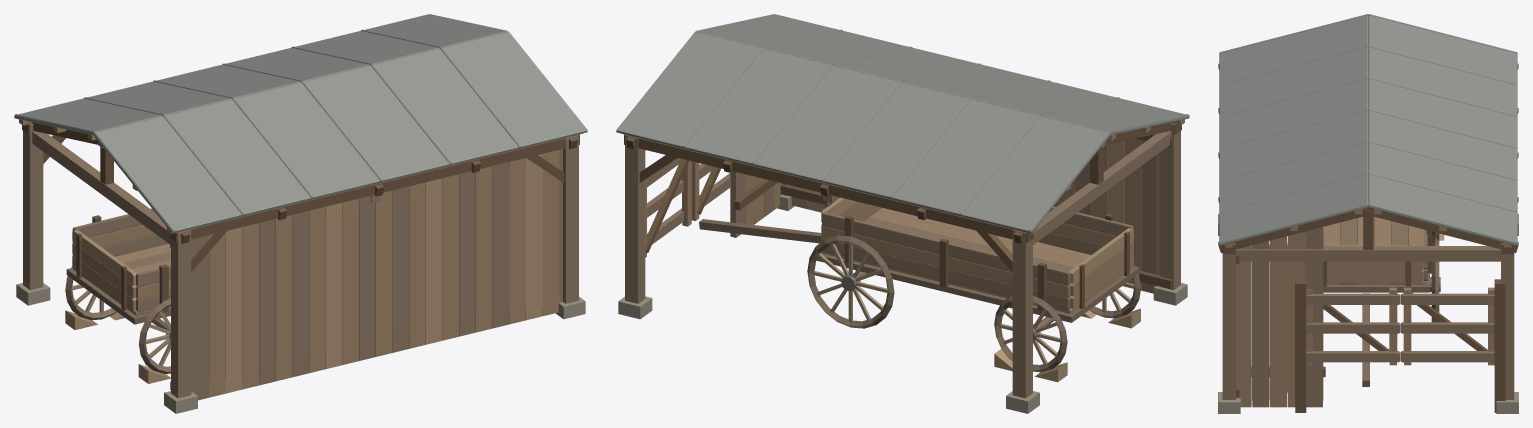
File: NorthwestWagonShed_r002.glb
3 views of the same model, side by side, from view 1: azimuth 30°, elevation 25°; view 2: azimuth 150°, elevation 25°; view 3: azimuth 270°, elevation 25° (orthographic). The views are drawn at different scales.
Parts seen in each view (by area): view 1: Roof-col, Backwall-col, Frame-col, ParkedWagon-col, WheelChocks-col; view 2: Roof-col, ParkedWagon-col, Frame-col, Backwall-col, WagonGate-col, WheelChocks-col; view 3: Roof-col, WagonGate-col, Backwall-col, Frame-col, ParkedWagon-col.
Part boxes in pixels (x1,y1,x2,y2): Roof-col: (14, 14, 587, 233); Backwall-col: (170, 149, 562, 400); Frame-col: (16, 119, 585, 413); ParkedWagon-col: (65, 208, 170, 373); WheelChocks-col: (65, 310, 170, 383); Roof-col: (616, 14, 1189, 233); ParkedWagon-col: (699, 197, 1140, 372); Frame-col: (618, 119, 1187, 413); Backwall-col: (730, 134, 1172, 293); WagonGate-col: (645, 158, 730, 257); WheelChocks-col: (994, 308, 1140, 382); Roof-col: (1219, 14, 1517, 245); WagonGate-col: (1295, 279, 1505, 412); Backwall-col: (1236, 227, 1325, 407); Frame-col: (1218, 63, 1518, 413); ParkedWagon-col: (1305, 216, 1440, 386).
Size of the model in its own units: 6 by 3.1 by 4.
